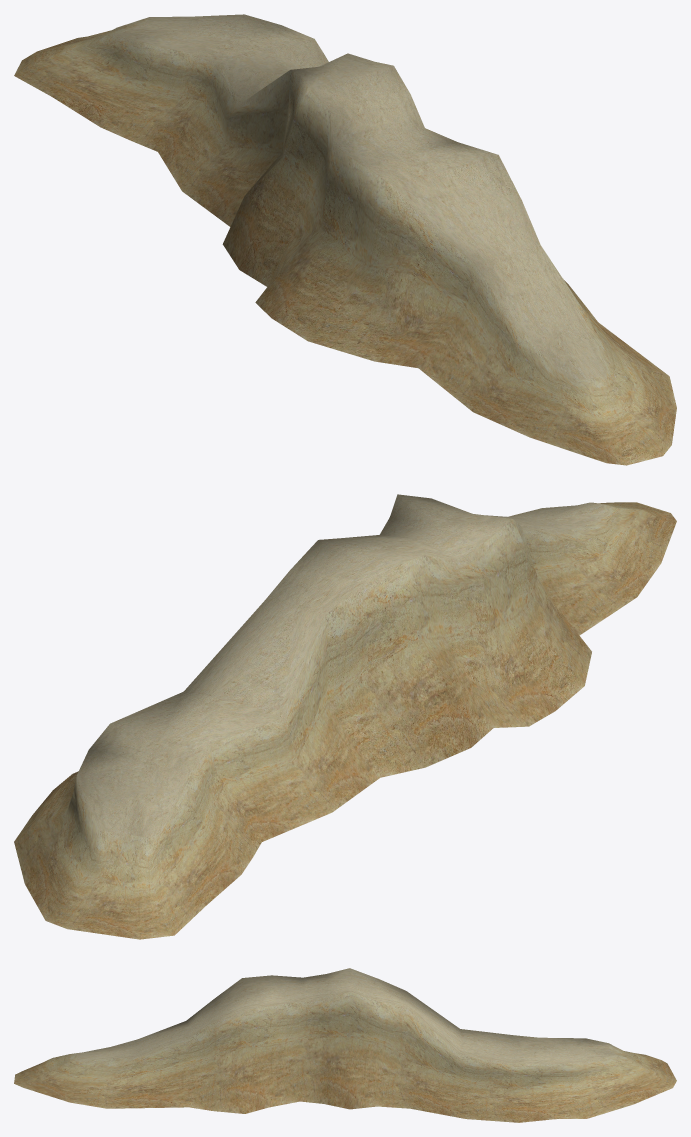
The model's file is rock_beach_spine_a3_l1.fbx.
The picture shows the model from 3 angles, top to bottom: view 1: azimuth 30°, elevation 25°; view 2: azimuth 150°, elevation 25°; view 3: azimuth 270°, elevation 25°; orthographic projection. The views are drawn at different scales.
Visible parts, largest first — view 1: mesh_node; view 2: mesh_node; view 3: mesh_node.
Boxes of the visible parts, <box> form: mesh_node: <box>14,14,676,465</box>; mesh_node: <box>14,494,676,939</box>; mesh_node: <box>14,968,676,1122</box>.
Size of the model in its own units: 7.63 by 4.26 by 25.64.
